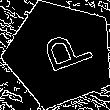P_W: (29, 28, 91, 80)
